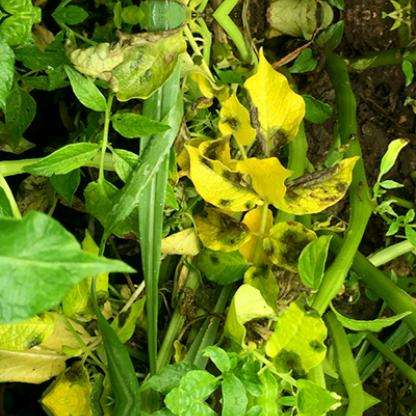Late-Blight: (181, 130, 361, 290), (64, 16, 196, 107)
